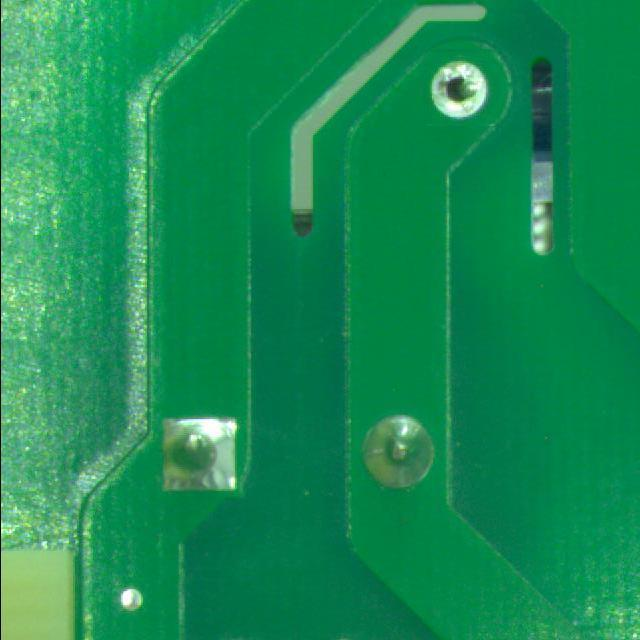lack_of_part: (424, 50, 499, 125)
